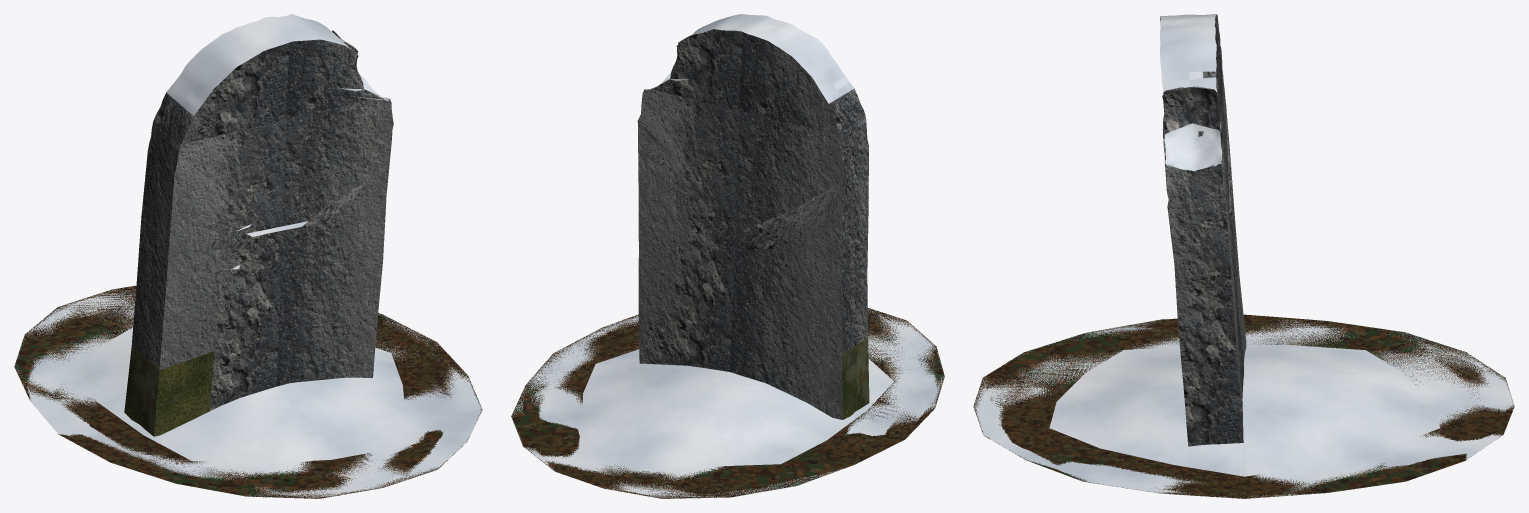
Rendered from snowy-grave-marker-v01.glb.
3 renders of one model, left to right at view 1: azimuth 30°, elevation 25°; view 2: azimuth 150°, elevation 25°; view 3: azimuth 270°, elevation 25°, orthographic. The views are drawn at different scales.
Parts seen in each view (by area): view 1: grave-marker; view 2: grave-marker; view 3: grave-marker.
Part boxes in pixels (x1,y1,x2,y2): grave-marker: (14,14,482,498); grave-marker: (511,14,944,498); grave-marker: (973,14,1514,498).
Size of the model in its own units: 1.56 by 1.53 by 1.94.
Materials: 4 (4 with a texture image).
